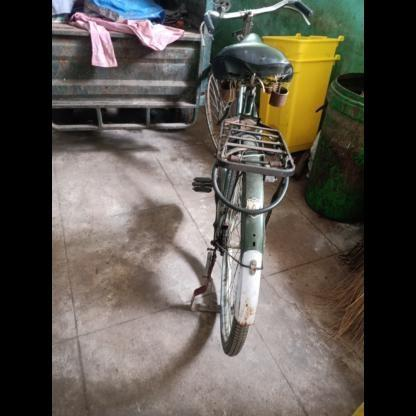Bicycle: (146, 0, 338, 384)
